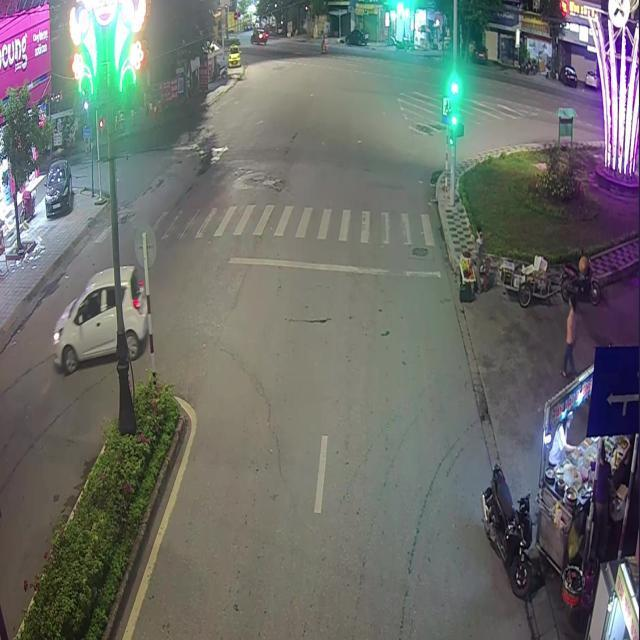green_light: (447, 77, 460, 139)
stop_line: (228, 256, 440, 277)
